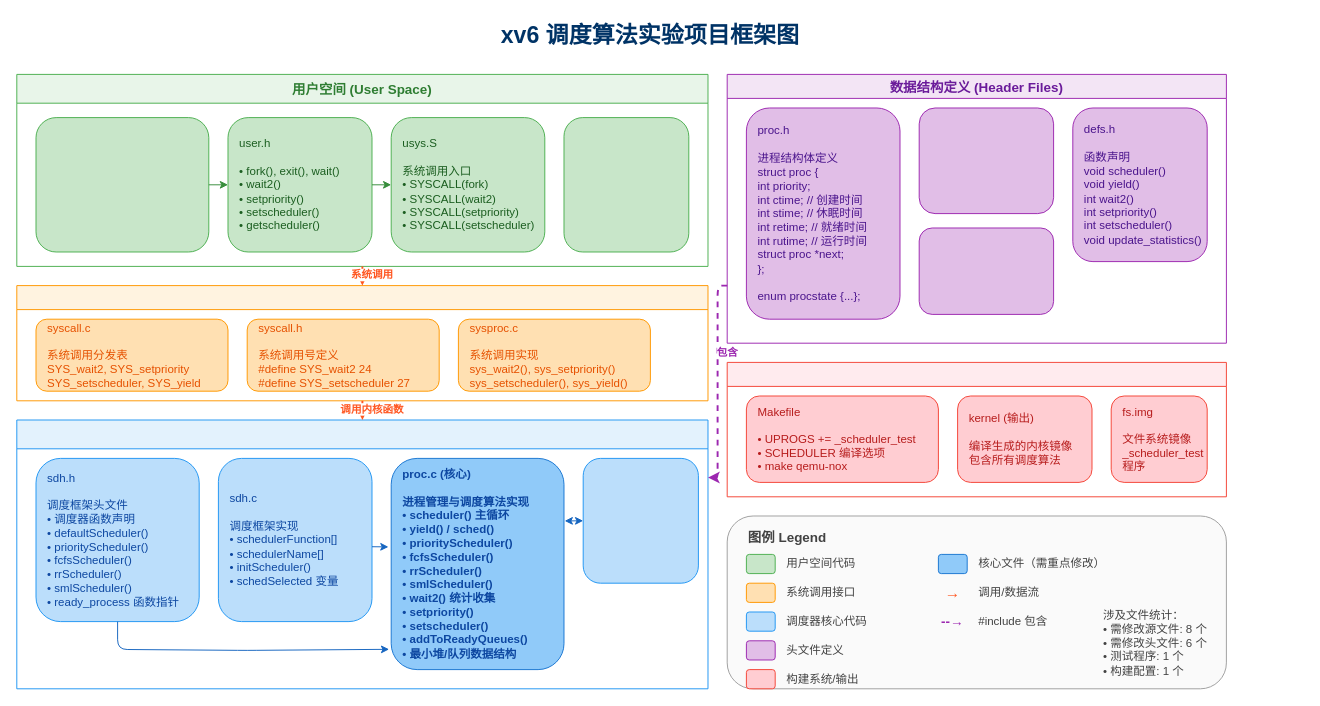
Image size: 1320x706. Some labels were removed from this diagram. Here are the shapes that lost their labels. From the top down, the box of each, then its label:
(918, 107, 1054, 214): param.h 系统参数 #define NPROC 64 #define NCPU 8 #define FSSIZE 10000
(35, 117, 209, 252): scheduler_test.c • 四个测试场景 • 车队效应测试 • 交互响应测试 • 优先级饥饿测试 • 时间片公平性测试
(563, 117, 689, 252): printf.c / ulib.c 用户态库函数 • printf() • strlen() • atoi()
(918, 227, 1054, 314): ptable.h 进程表访问 extern struct ptable getptable()
(16, 285, 708, 401): 系统调用接口层
(726, 361, 1226, 497): 构建系统
(582, 457, 698, 583): trap.c 中断处理 • 时钟中断 • update_statistics() • 抢占式调度触发 • yield() 调用
(16, 419, 708, 689): 调度器核心 (Scheduler Core)
